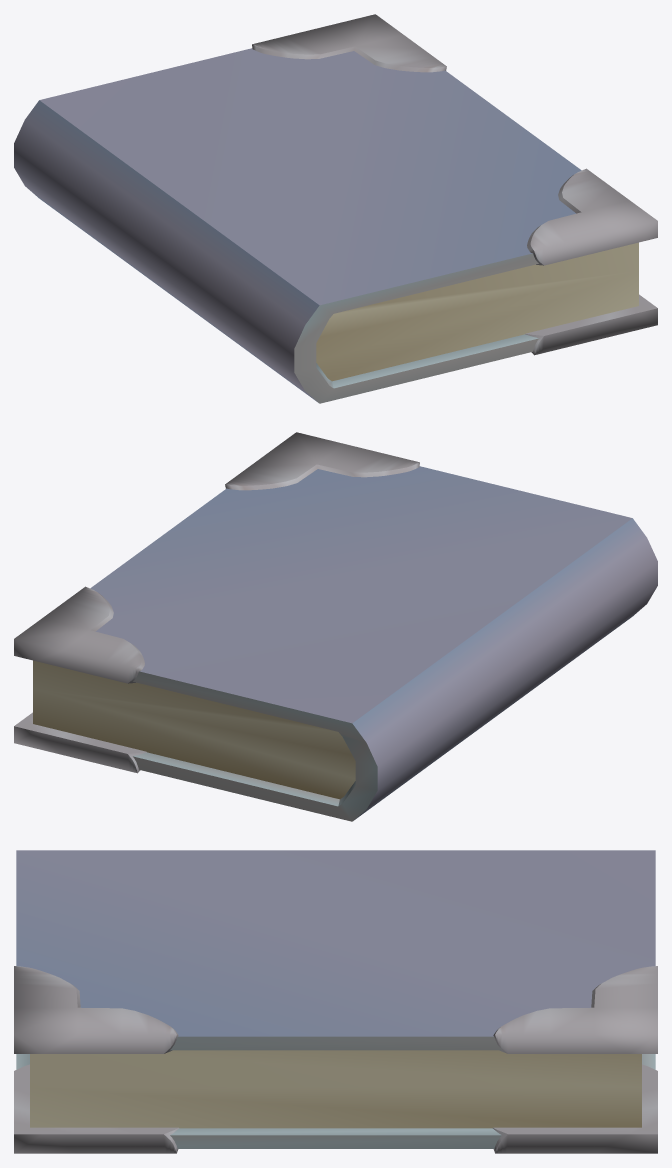
Rendered from Book_7.glb.
3 renders of one model, top to bottom at view 1: azimuth 30°, elevation 25°; view 2: azimuth 150°, elevation 25°; view 3: azimuth 270°, elevation 25°, orthographic. The views are drawn at different scales.
Parts seen in each view (by area): view 1: Book_7_2ba33e, Book_7_a6603f; view 2: Book_7_2ba33e, Book_7_a6603f; view 3: Book_7_2ba33e, Book_7_a6603f.
Part boxes in pixels (x1,y1,x2,y2): Book_7_2ba33e: [14, 48, 638, 403]; Book_7_a6603f: [252, 14, 657, 355]; Book_7_2ba33e: [33, 466, 657, 821]; Book_7_a6603f: [14, 432, 419, 773]; Book_7_2ba33e: [16, 850, 655, 1148]; Book_7_a6603f: [14, 966, 657, 1153].
Size of the model in its own units: 0.247 by 0.0679 by 0.3333.
